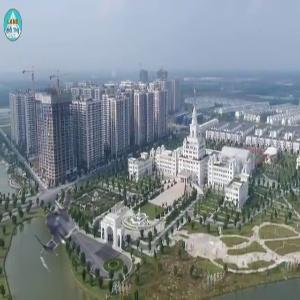drone: (18, 184, 108, 274)
